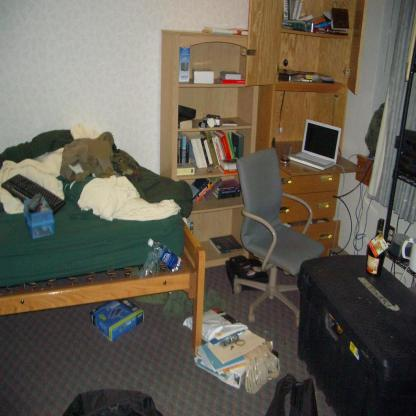board: (289, 116, 343, 170), (146, 238, 183, 272)
